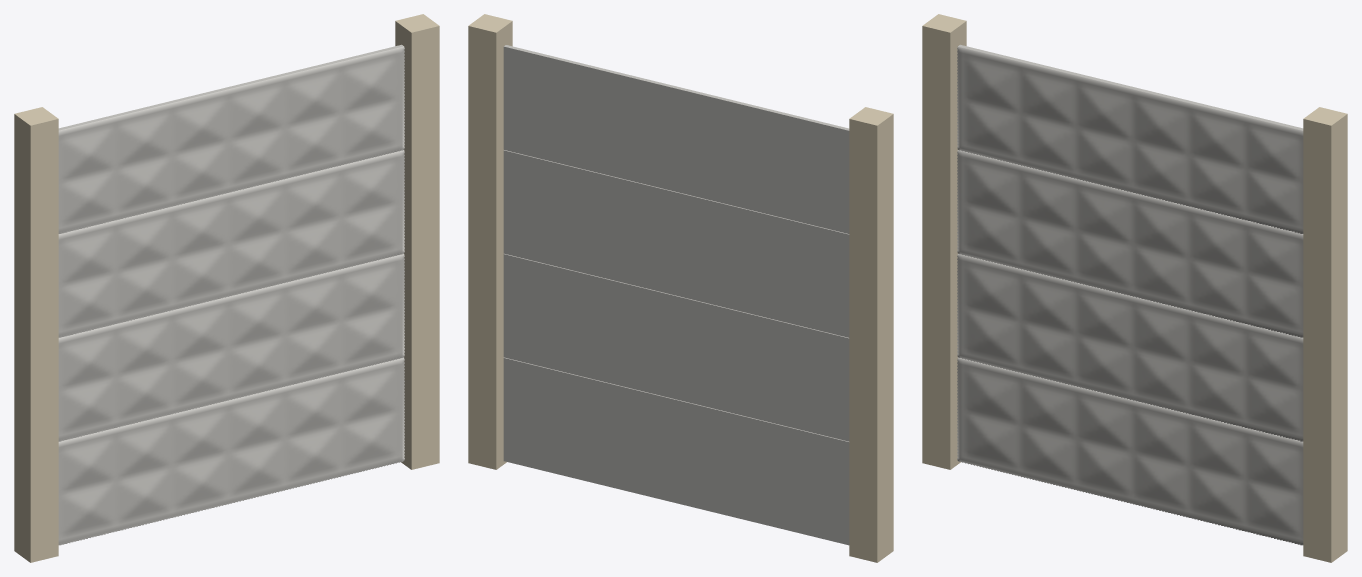
File: terilgan.glb
3 renders of one model, left to right at view 1: azimuth 30°, elevation 25°; view 2: azimuth 150°, elevation 25°; view 3: azimuth 330°, elevation 25°, orthographic.
Visible parts, largest first — view 1: t3, t1, t0, t2, Ustun, Ustun.001; view 2: t3, t1, t0, t2, Ustun, Ustun.001; view 3: t3, t0, t1, t2, Ustun.001, Ustun.
Part boxes in pixels (box(x1,y1,x2,y2)): t3: box(58, 44, 404, 233); t1: box(58, 253, 404, 441); t0: box(58, 357, 404, 545); t2: box(58, 150, 404, 337); Ustun: box(14, 107, 58, 562); Ustun.001: box(395, 14, 439, 469); t3: box(503, 45, 849, 233); t1: box(503, 253, 849, 441); t0: box(503, 357, 849, 545); t2: box(503, 150, 849, 337); Ustun: box(849, 107, 893, 562); Ustun.001: box(468, 14, 512, 469); t3: box(957, 44, 1303, 233); t0: box(957, 357, 1303, 545); t1: box(957, 253, 1303, 441); t2: box(957, 150, 1303, 337); Ustun.001: box(1303, 107, 1347, 562); Ustun: box(922, 14, 966, 469).
Bounding box in the file's own units: 2.32 × 2.37 × 0.16.
